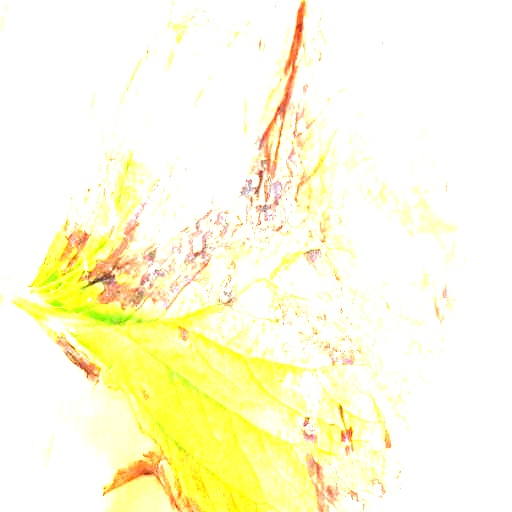Angular Leafspot: (19, 0, 481, 511)
